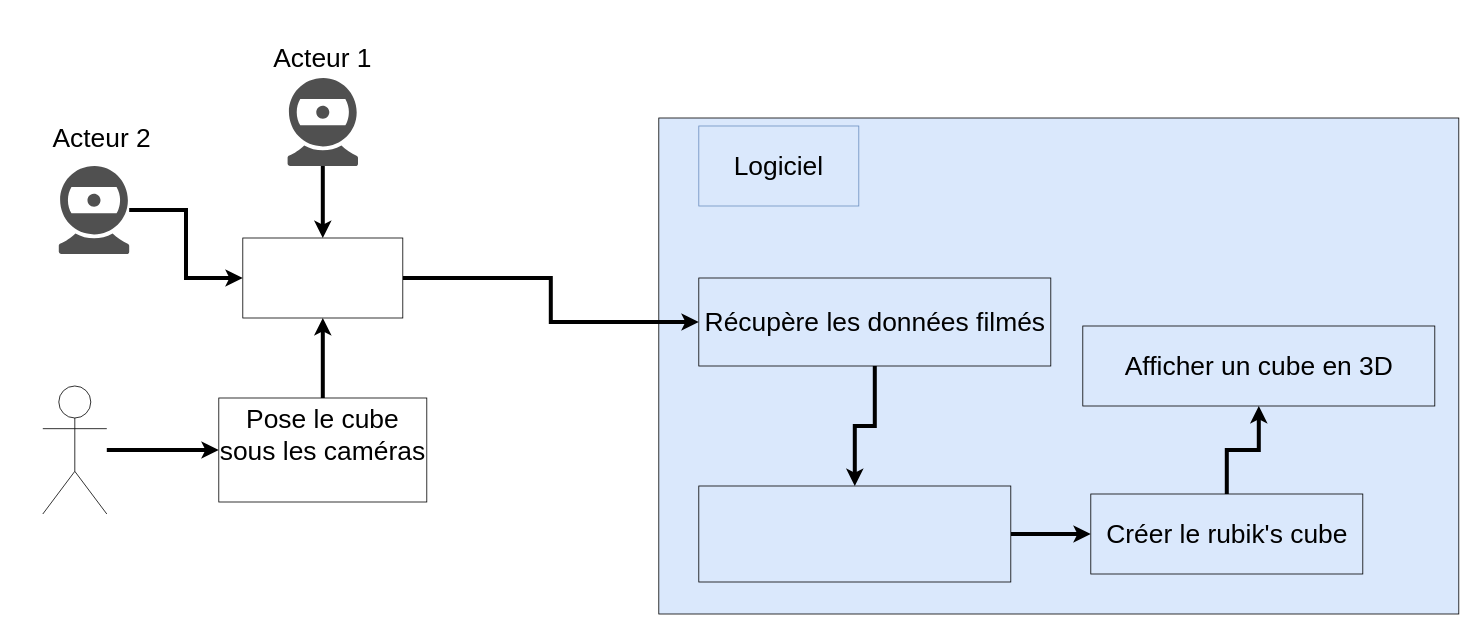
This 1473x628 diagram has some shape labels left out. Here are the shapes that lost their labels. From the top down, the centre of each, then its label:
At [322,277]: "Film le cube".
At [74,449]: "Utilisateur".
At [854,533]: "Déterminer la face cacher".
